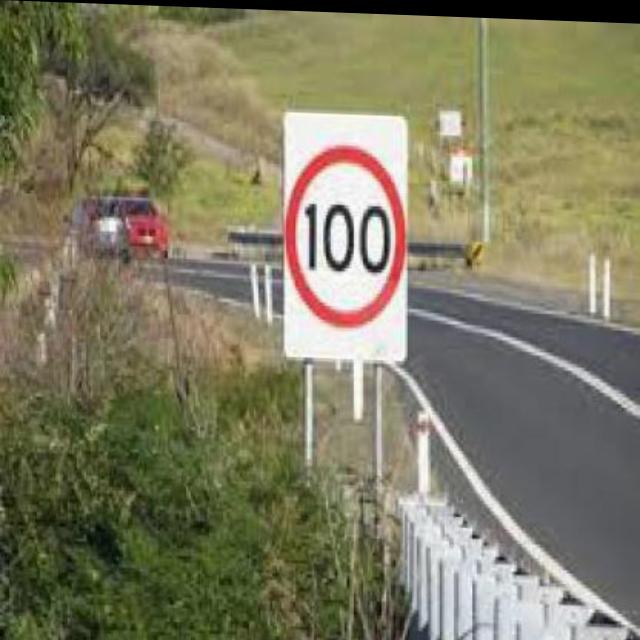limit100: (277, 135, 408, 331)
